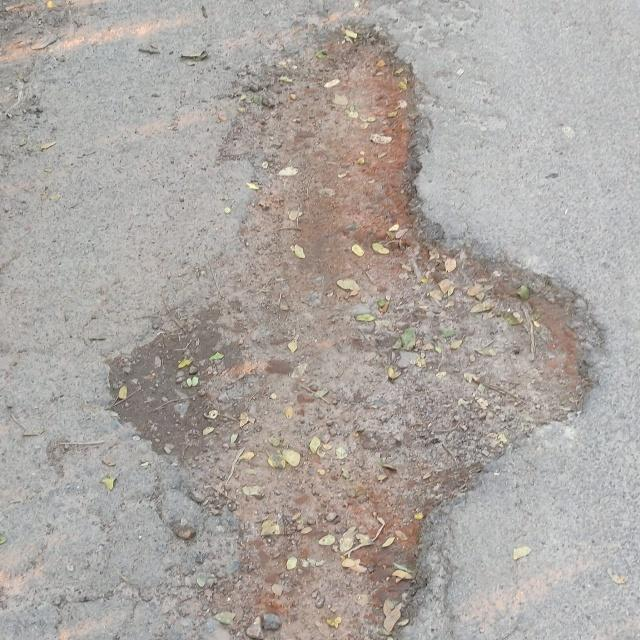Surface Erosion: (50, 0, 602, 640)
